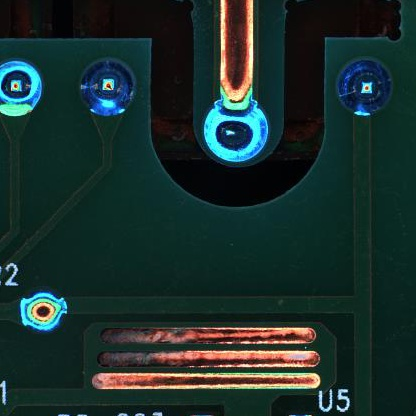spot: (202, 101, 270, 163), (79, 58, 137, 117), (337, 59, 392, 118), (1, 61, 45, 119), (18, 290, 68, 331)
